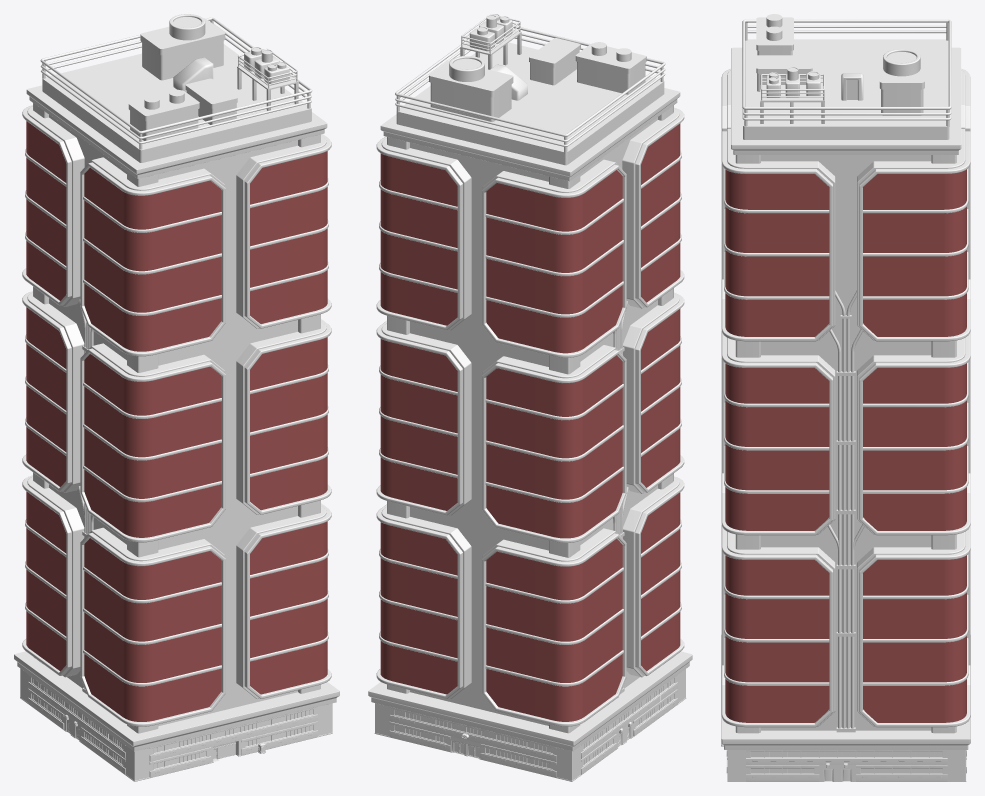
File: P_Skyscraper_02.fbx
The picture shows the model from 3 angles, left to right: view 1: azimuth 30°, elevation 25°; view 2: azimuth 150°, elevation 25°; view 3: azimuth 270°, elevation 25°; orthographic projection. The views are drawn at different scales.
Visible parts, largest first — view 1: SM_Skyscraper_02, SM_Roof_Border, P_VentilationBorder, SM_Roof_Ventilation, SM_Roof_Doors; view 2: SM_Skyscraper_02, SM_Roof_Border, P_VentilationBorder, SM_Roof_Ventilation; view 3: SM_Skyscraper_02, SM_Roof_Border, P_VentilationBorder, SM_Roof_Ventilation, SM_Roof_Doors.
Boxes of the visible parts, x1,y1,x2,y2 form: SM_Skyscraper_02: (14,18,339,751); SM_Roof_Border: (40,17,312,149); P_VentilationBorder: (237,48,298,110); SM_Roof_Ventilation: (169,14,205,40); SM_Roof_Doors: (173,57,213,92); SM_Skyscraper_02: (368,38,692,751); SM_Roof_Border: (395,25,665,153); P_VentilationBorder: (460,14,521,69); SM_Roof_Ventilation: (449,56,484,81); SM_Skyscraper_02: (721,17,970,749); SM_Roof_Border: (742,19,951,126); P_VentilationBorder: (760,74,824,123); SM_Roof_Ventilation: (883,49,920,76); SM_Roof_Doors: (841,73,863,100).
Bounding box in the file's own units: 4080 × 12552 × 4086.
